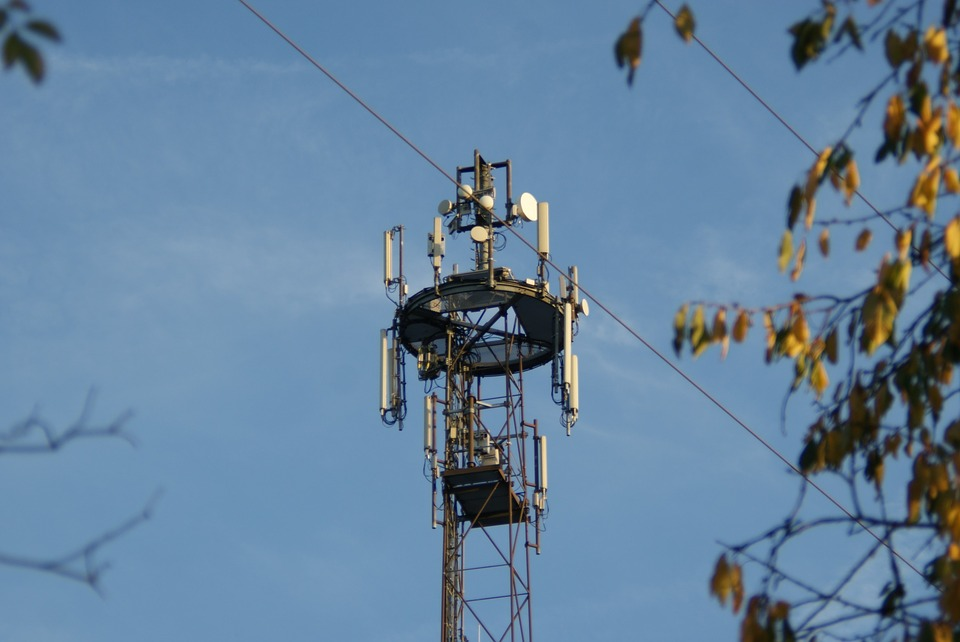a: (380, 329, 400, 420), (536, 434, 550, 508), (424, 394, 437, 463), (536, 202, 550, 261), (433, 216, 443, 284), (563, 303, 570, 388), (383, 229, 392, 289), (570, 354, 577, 430)
b: (471, 225, 488, 243), (455, 183, 473, 200), (438, 199, 452, 214), (479, 195, 492, 210)
